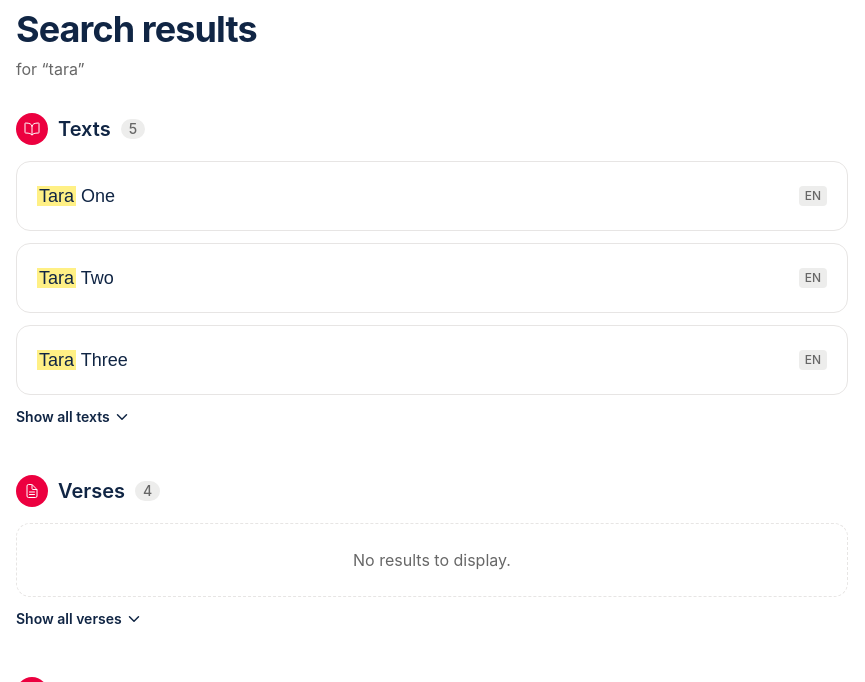
Scenario: SearchResultsPage › expands a section in place to show the rest of its results
Click the button "Show all texts". click: (73, 417)
box: [16,407,130,427]
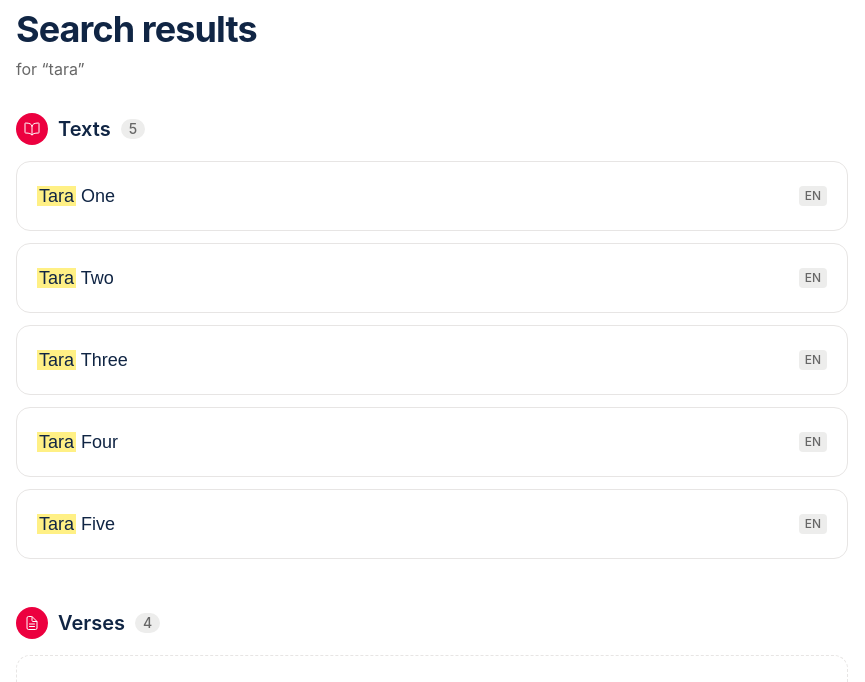
Check: the button "Show all texts" is gone
